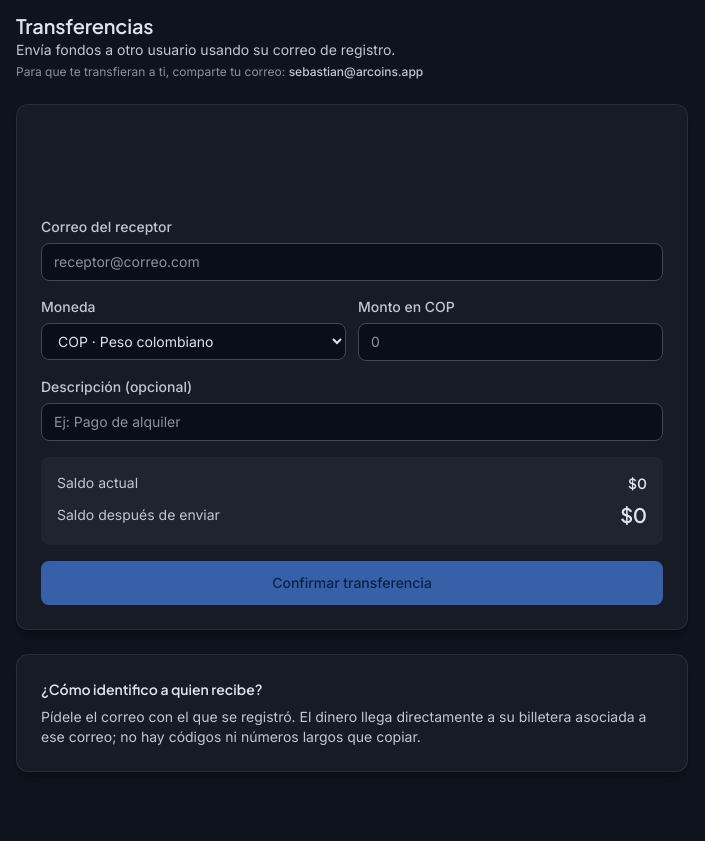
it: TransferPage › muestra el ancla con el correo propio y envía una transferencia con éxito
Check: the text "comparte tu correo:" shows "sebastian@arcoins.app", box [289,64,423,79]
Type "maria@arcoins.app" into the field labelled "Correo del receptor" at [352, 262], box [41,243,663,281]
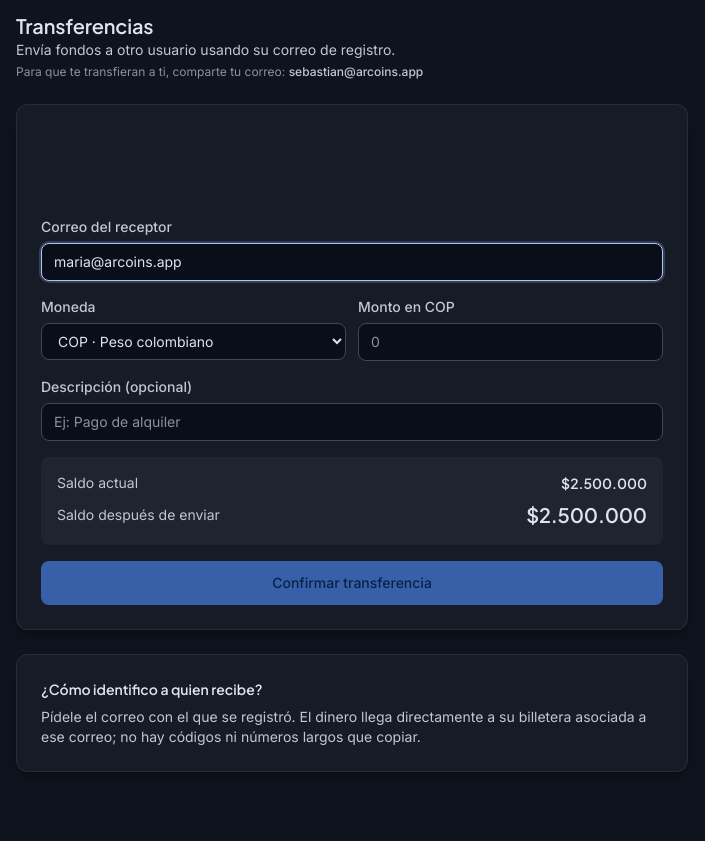
Type "100" into the number field labelled "Monto en COP" at [510, 342], box [358,323,663,361]
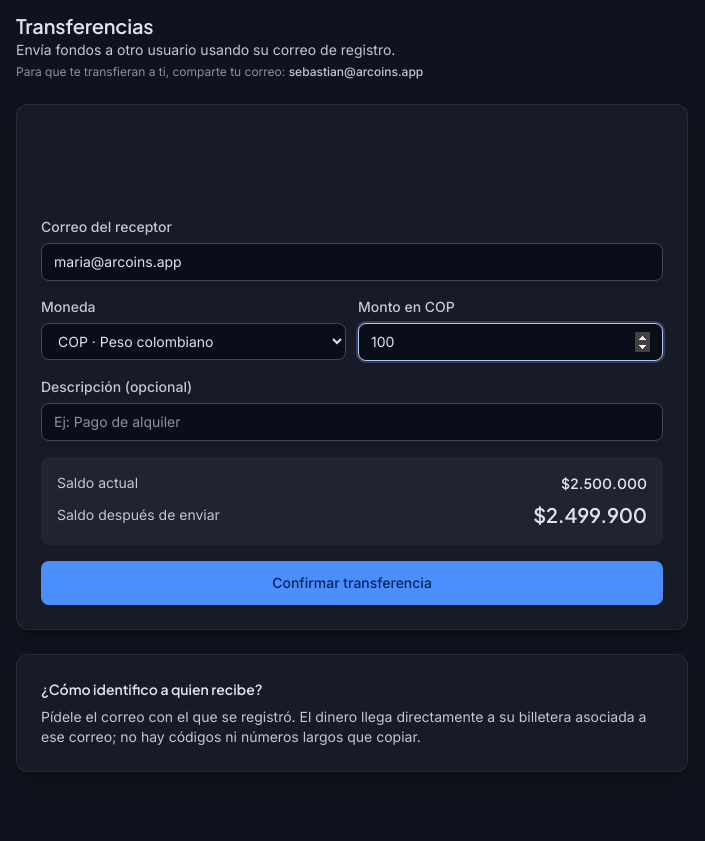
Click the button "Confirmar transferencia" at [352, 583], box [41,561,663,605]
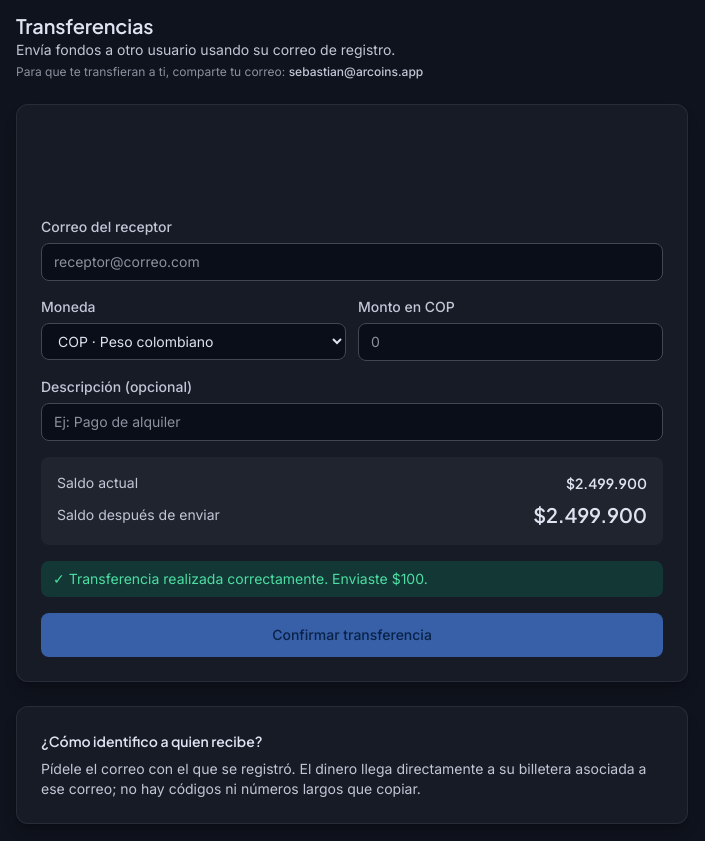
Check: the text "✓ Transferencia realizada correctamente. Enviaste $100." is shown, box [41,561,663,597]
Check: the field labelled "Correo del receptor" is empty, box [41,243,663,281]
